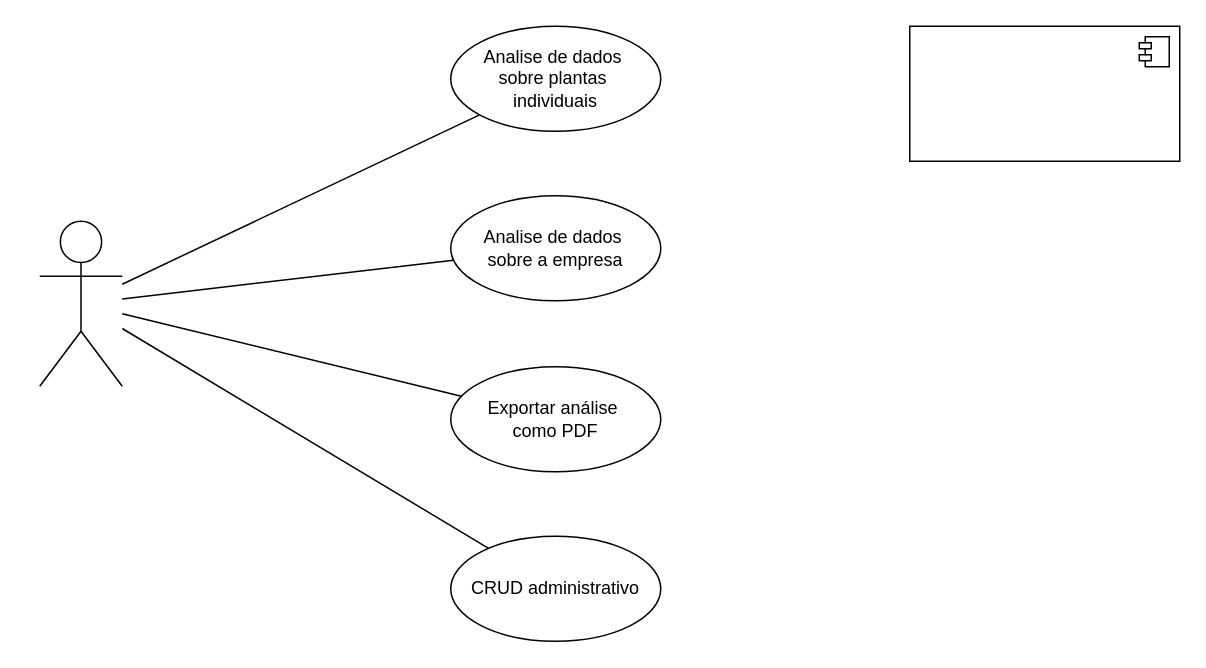
The diagram is 1206 pixels wide and 668 high, and some of its shapes have lost their labels. Here are the shapes that lost their labels. From the top down, the box of each, then its label:
(908, 25, 1180, 161): «Annotation» Separação em camadas de permissionamento
(38, 220, 122, 386): Administrador
